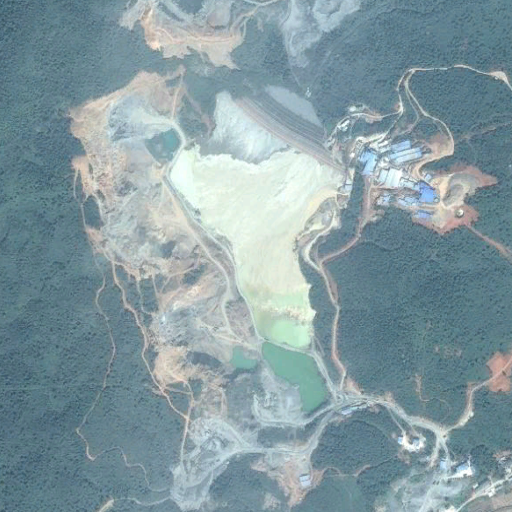tp: (172, 86, 354, 350)
